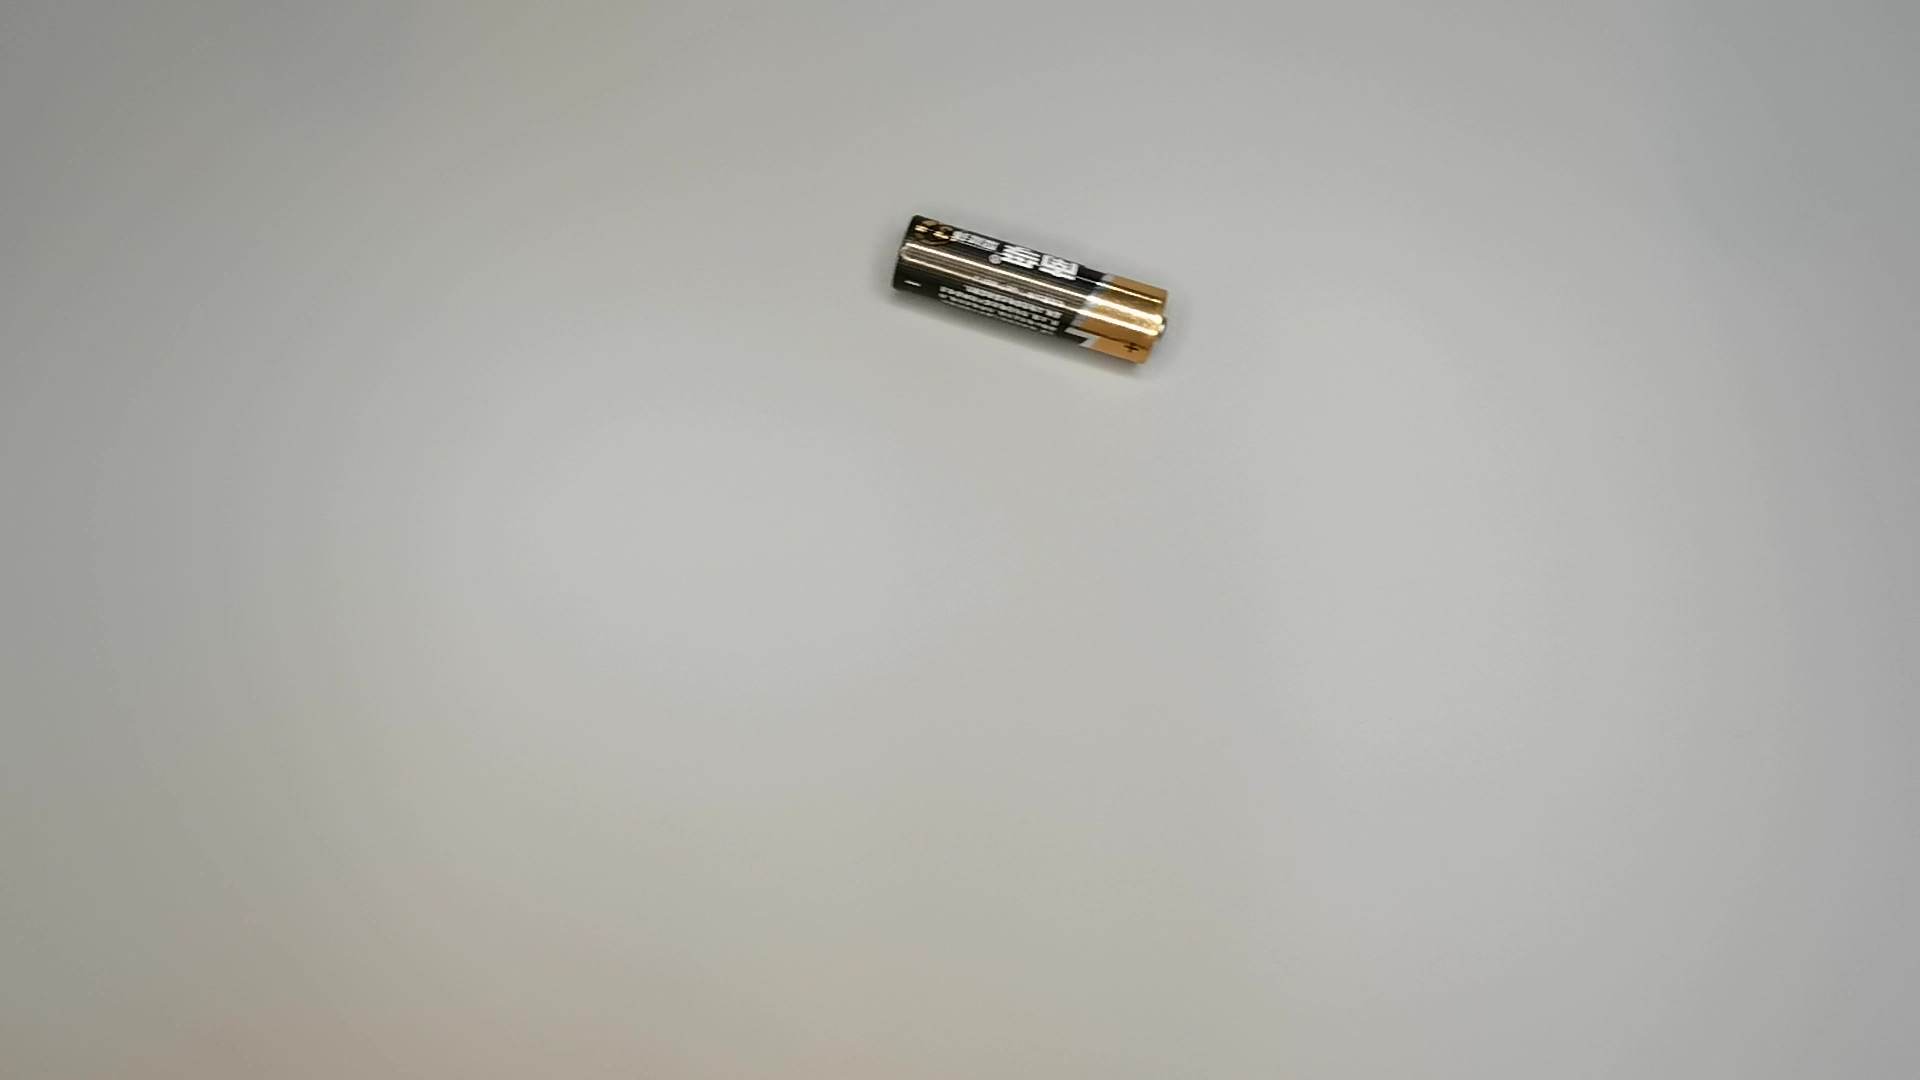battery: (889, 214, 1182, 369)
